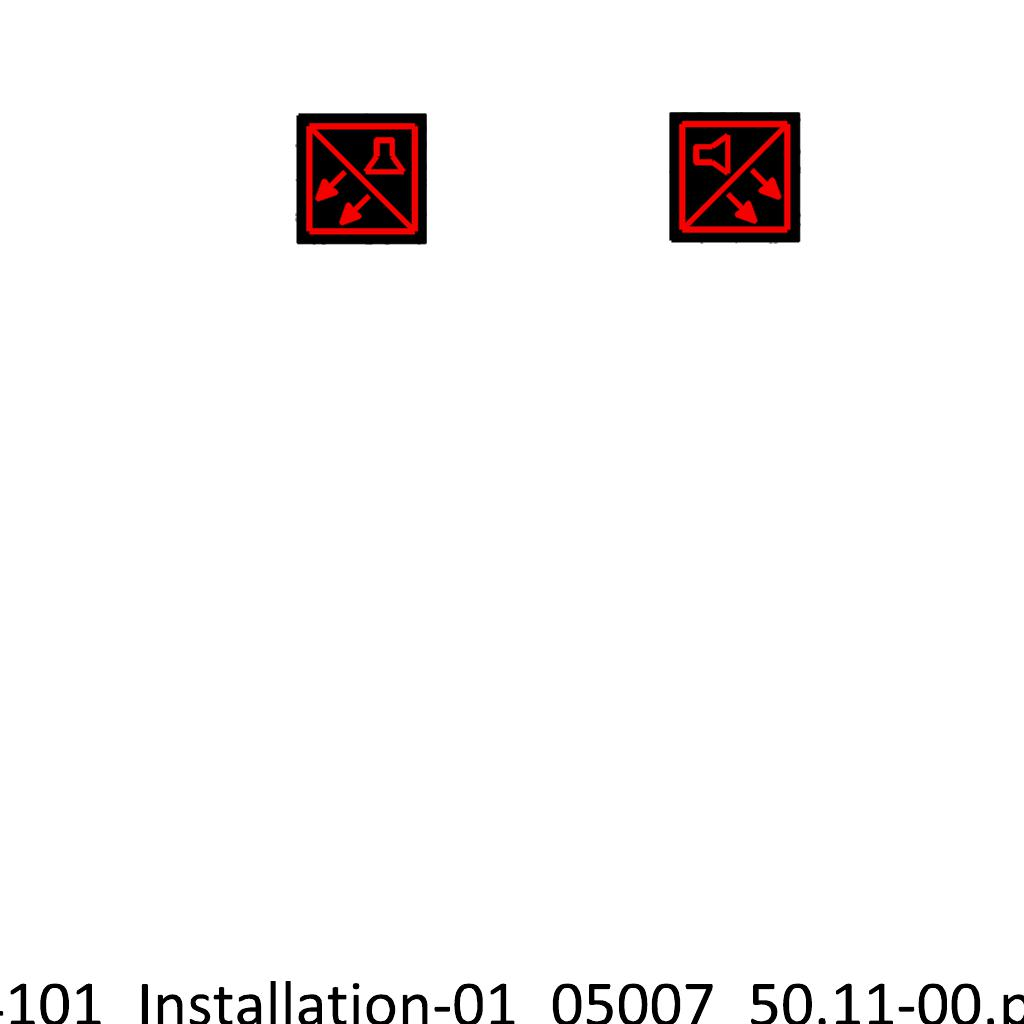OKW_Multisensormelder_(Kombination_optischer_Rauch-Kahlenmonoxid_Waerme-Melder): (295, 113, 427, 245), (669, 112, 801, 244)
